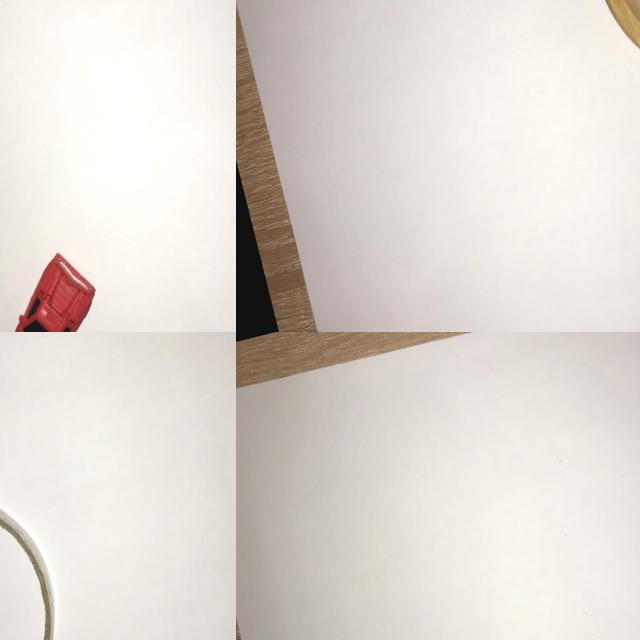car: (0, 238, 120, 332)
scotch: (0, 471, 87, 640)
